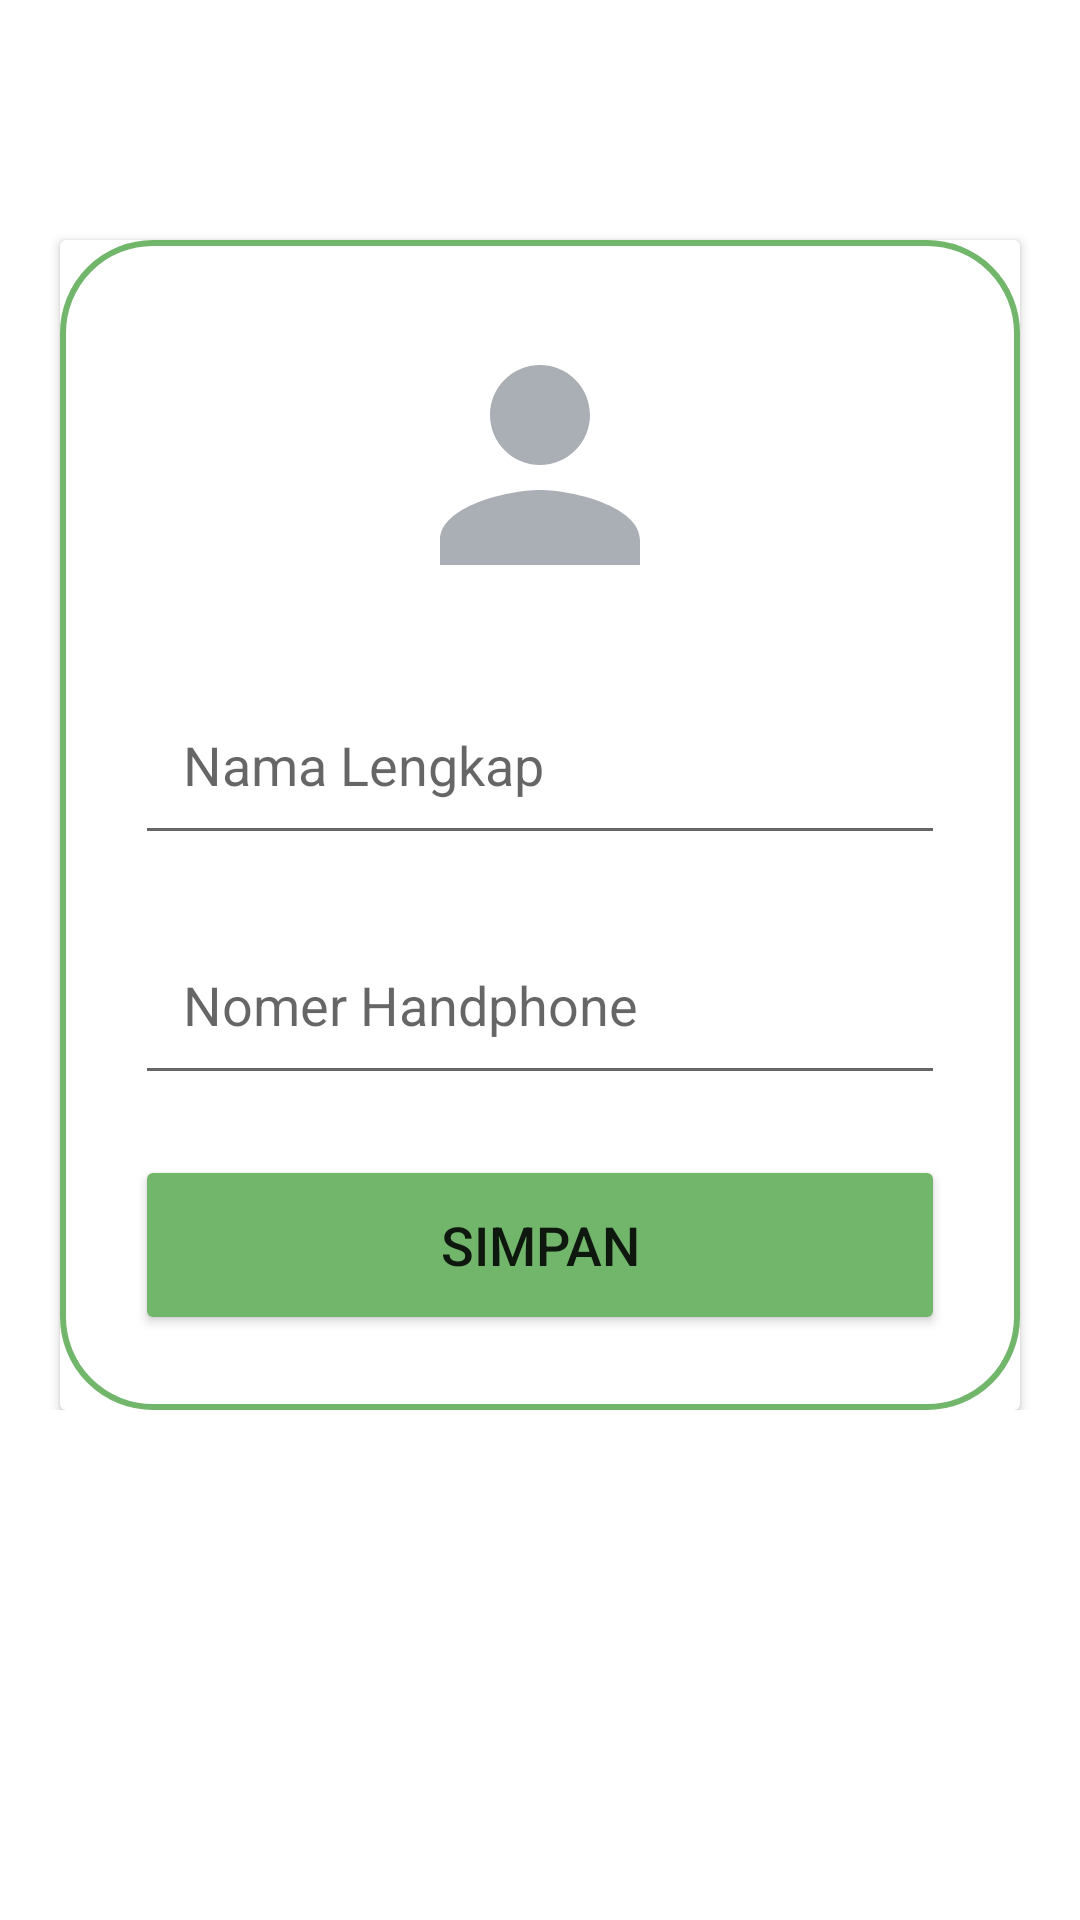

Point at icon controls on the screen. Image size 1080×1920, points as point (x, y).
person: point (540, 465)
